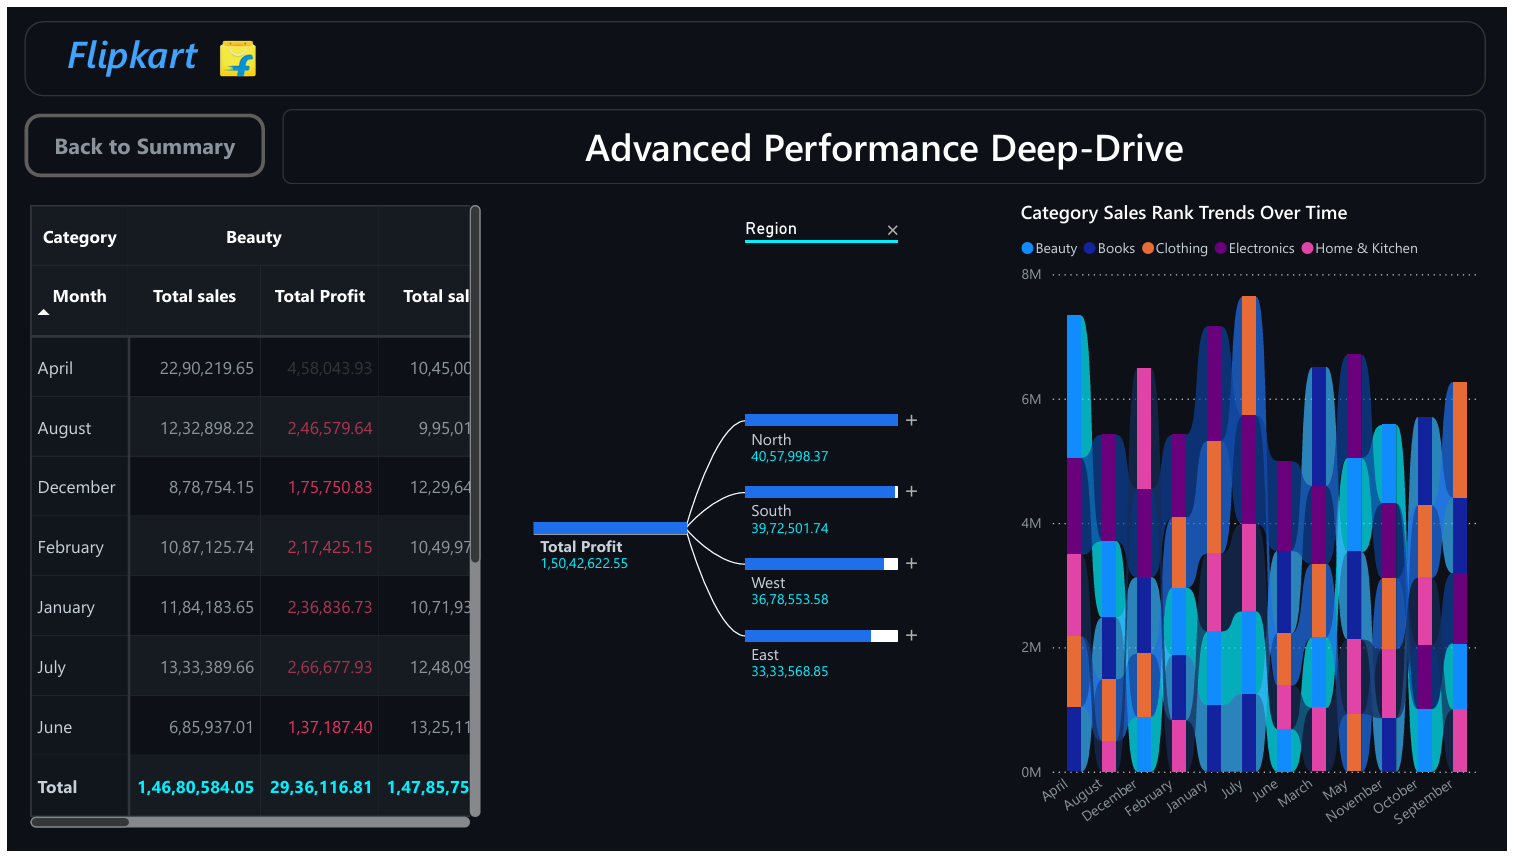

What the dashboard file says about the page in this screenshot:
{"tool":"powerbi","page":{"name":"Page 2","canvas":[1280,720],"ordinal":1},"visuals":[{"type":"shape","box":[15.4,11.8,1246.8,64],"z":0,"group":"g1"},{"type":"actionButton","box":[15.4,91.3,205,53.3],"z":0},{"type":"textbox","box":[46.2,11.8,301,64],"z":1000,"group":"g1"},{"type":"textbox","box":[234.7,86.5,1027.6,64],"z":1000},{"type":"image","box":[101.9,5.9,189.6,75.9],"z":2000,"group":"g1"},{"type":"pivotTable","fields":{"Rows":["Table1.Region","Table1.Month"],"Columns":["Table1.Category"],"Values":["Table1.Total sales","Table1.Total Profit"]},"box":[15.4,163.6,393.5,541.6],"z":2000},{"type":"decompositionTreeVisual","fields":{"Analyze":["Table1.Total Profit"],"ExplainBy":["Table1.Region","Table1.Payment Method","Table1.Category"]},"box":[419.7,164.1,422,541.4],"z":3000},{"type":"ribbonChart","title":"Category Sales Rank Trends Over Time","fields":{"Category":["Table1.Month"],"Y":["Table1.Total sales"],"Series":["Table1.Category"]},"box":[859.5,164.1,403,555.9],"z":4000},{"type":"group","id":"g1","title":"Group 1","box":[15.4,5.9,1246.8,75.9],"z":6000}]}

Visuals, with their boxes in screenshot pixels (x1, y1, x2, y2), scaled from the page's 1280x720 canvas onto the 1517x857 screenshot:
shape: (18, 14, 1496, 90)
actionButton: (18, 109, 261, 172)
textbox: (55, 14, 411, 90)
textbox: (278, 103, 1496, 179)
image: (121, 7, 345, 97)
pivotTable - Table1.Region x Table1.Month: (18, 195, 485, 839)
decompositionTreeVisual - Table1.Total Profit x Table1.Region: (497, 195, 998, 840)
"Category Sales Rank Trends Over Time" ribbonChart: (1019, 195, 1496, 856)
"Group 1" group: (18, 7, 1496, 97)
